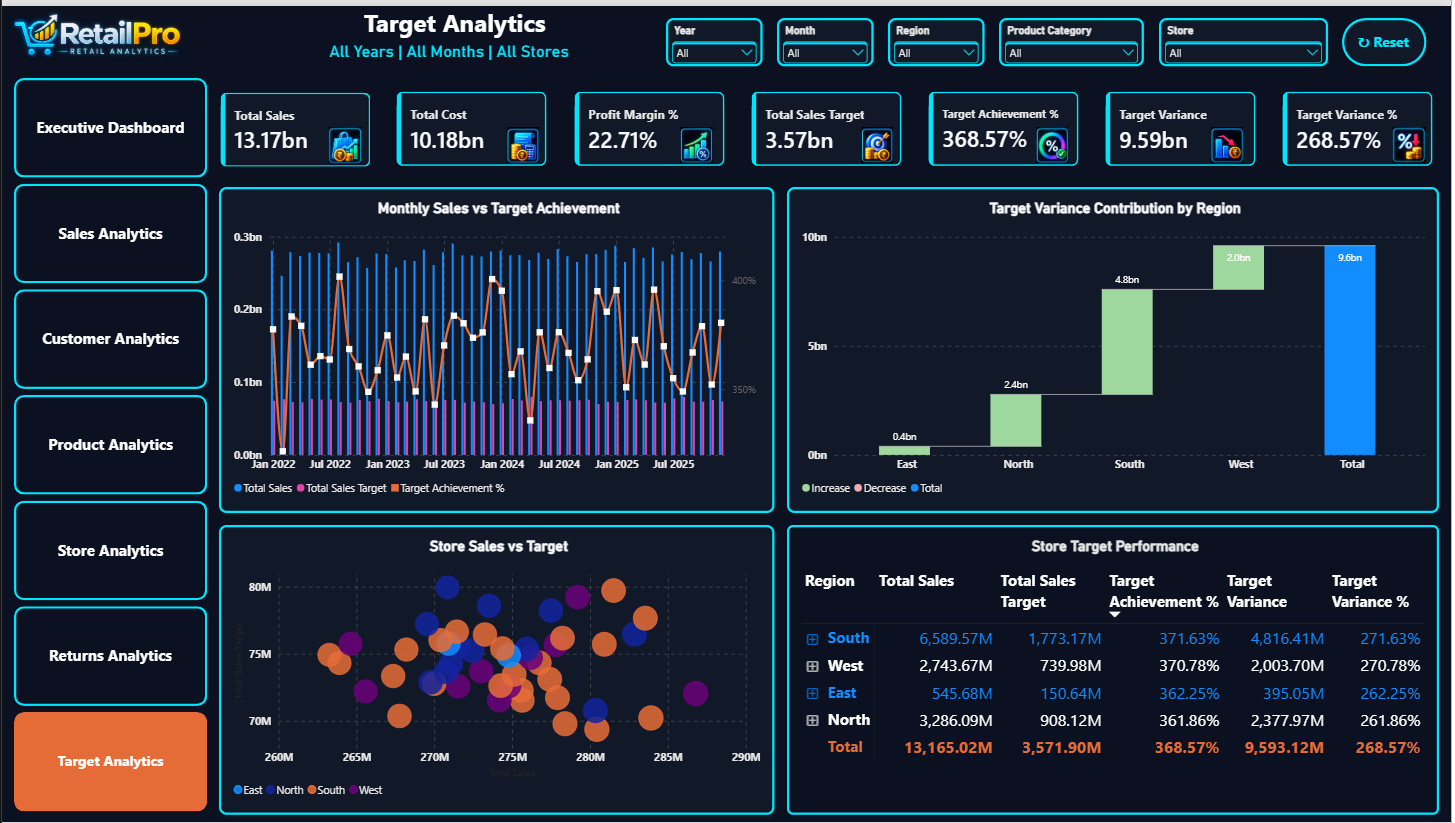

Layout of this report page (visuals, bound fields, positions):
{"tool":"powerbi","page":{"name":"Target Analytics","canvas":[1920,1080],"ordinal":6},"visuals":[{"type":"cardVisual","fields":{"Data":["All_Measures.Profit Margin %"]},"box":[757.3,112,200,100],"z":5000},{"type":"cardVisual","fields":{"Data":["All_Measures.Total Sales Target"]},"box":[992,112,200,100],"z":6000},{"type":"cardVisual","fields":{"Data":["All_Measures.Target Achievement %"]},"box":[1226.7,112,200,100],"z":7000},{"type":"cardVisual","fields":{"Data":["All_Measures.Target Variance"]},"box":[1461.3,112,200,100],"z":8000},{"type":"cardVisual","fields":{"Data":["All_Measures.Target Variance %"]},"box":[1696,112,200,100],"z":9000},{"type":"lineClusteredColumnComboChart","title":"Monthly Sales vs Target Achievement","fields":{"Category":["DimDate.MonthStart"],"Y":["All_Measures.Total Sales","All_Measures.Total Sales Target"],"Y2":["All_Measures.Target Achievement %"]},"box":[288,240,736,432],"z":14000},{"type":"waterfallChart","title":"Target Variance Contribution by Region","fields":{"Category":["DimStore.Region"],"Y":["All_Measures.Target Variance"]},"box":[1040,240,864,432],"z":15000},{"type":"scatterChart","title":"Store Sales vs Target","fields":{"Category":["DimStore.StoreName"],"Series":["DimStore.Region"],"Size":["All_Measures.Target Variance"],"X":["All_Measures.Total Sales"],"Y":["All_Measures.Total Sales Target"]},"box":[288,688,736,384],"z":16000},{"type":"pivotTable","title":"Store Target Performance","fields":{"Rows":["DimStore.Region","DimStore.StoreName"],"Values":["All_Measures.Total Sales","All_Measures.Total Sales Target","All_Measures.Target Achievement %","All_Measures.Target Variance","All_Measures.Target Variance %"]},"box":[1040,688,864,384],"z":17000},{"type":"cardVisual","fields":{"Data":["All_Measures.Total Cost"]},"box":[522.7,112,200,100],"z":17001},{"type":"cardVisual","fields":{"Data":["All_Measures.Total Sales"]},"box":[288,112,200,100],"z":17002},{"type":"slicer","fields":{"Values":["DimDate.Year"]},"box":[880,16,128,64],"z":17003},{"type":"slicer","fields":{"Values":["DimDate.MonthName"]},"box":[1027.2,16,128,64],"z":17004},{"type":"slicer","fields":{"Values":["DimStore.Region"]},"box":[1174.4,16,128,64],"z":17005},{"type":"slicer","fields":{"Values":["DimStore.StoreName"]},"box":[1532.8,16,224,64],"z":17006},{"type":"slicer","fields":{"Values":["DimProduct.Category"]},"box":[1321.6,16,192,64],"z":17007},{"type":"image","box":[0,0,256,80],"z":17008},{"type":"textbox","box":[368,48,448,32],"z":17009},{"type":"textbox","box":[432,0,336,48],"z":17010},{"type":"pageNavigator","box":[16,96,256,976],"z":17011},{"type":"actionButton","box":[1776,16,112,64],"z":17012},{"type":"image","box":[415,160,80,48],"z":17013},{"type":"image","box":[650,160,80,48],"z":17014},{"type":"image","box":[880,160,80,48],"z":17015},{"type":"image","box":[1120,160,80,48],"z":17016},{"type":"image","box":[1352,160,80,48],"z":17017},{"type":"image","box":[1584,160,80,48],"z":17018},{"type":"image","box":[1824,160,80,48],"z":17019}]}

Visuals, with their boxes in screenshot pixels (x1, y1, x2, y2), scaled from the page's 1920x1080 canvas onto the 1455x823 screenshot:
cardVisual - All_Measures.Profit Margin %: detection(574, 85, 725, 162)
cardVisual - All_Measures.Total Sales Target: detection(752, 85, 903, 162)
cardVisual - All_Measures.Target Achievement %: detection(930, 85, 1081, 162)
cardVisual - All_Measures.Target Variance: detection(1107, 85, 1259, 162)
cardVisual - All_Measures.Target Variance %: detection(1285, 85, 1437, 162)
"Monthly Sales vs Target Achievement" lineClusteredColumnComboChart: detection(218, 183, 776, 512)
"Target Variance Contribution by Region" waterfallChart: detection(788, 183, 1443, 512)
"Store Sales vs Target" scatterChart: detection(218, 524, 776, 817)
"Store Target Performance" pivotTable: detection(788, 524, 1443, 817)
cardVisual - All_Measures.Total Cost: detection(396, 85, 548, 162)
cardVisual - All_Measures.Total Sales: detection(218, 85, 370, 162)
slicer - DimDate.Year: detection(667, 12, 764, 61)
slicer - DimDate.MonthName: detection(778, 12, 875, 61)
slicer - DimStore.Region: detection(890, 12, 987, 61)
slicer - DimStore.StoreName: detection(1162, 12, 1331, 61)
slicer - DimProduct.Category: detection(1002, 12, 1147, 61)
image: detection(0, 0, 194, 61)
textbox: detection(279, 37, 618, 61)
textbox: detection(327, 0, 582, 37)
pageNavigator: detection(12, 73, 206, 817)
actionButton: detection(1346, 12, 1431, 61)
image: detection(314, 122, 375, 159)
image: detection(493, 122, 553, 159)
image: detection(667, 122, 728, 159)
image: detection(849, 122, 909, 159)
image: detection(1025, 122, 1085, 159)
image: detection(1200, 122, 1261, 159)
image: detection(1382, 122, 1443, 159)
